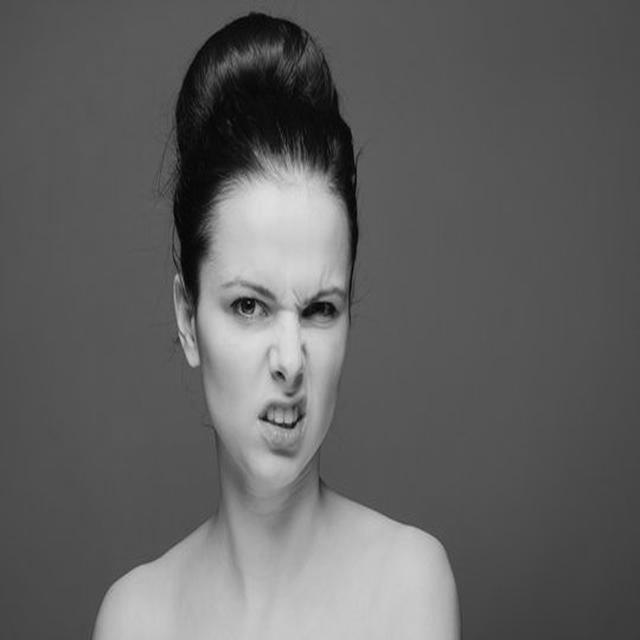Disgust: (195, 161, 352, 491)
